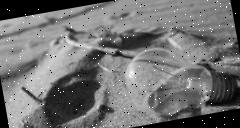lightbulb: (119, 34, 240, 122)
